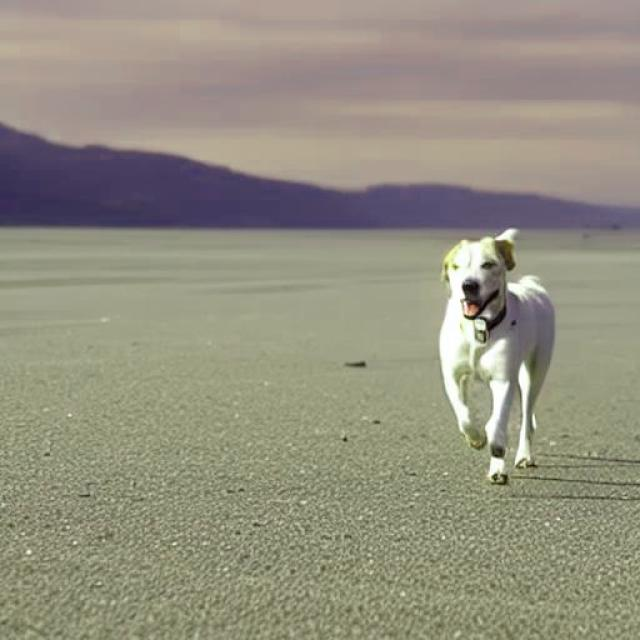Dog: (438, 229, 556, 486)
